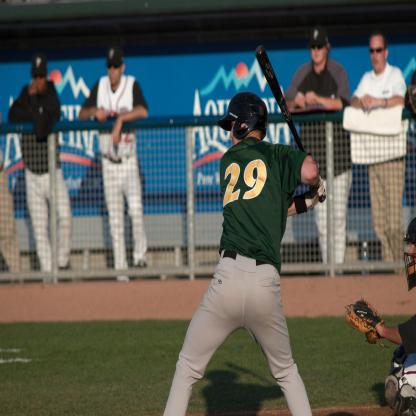Helmet: (219, 90, 268, 149)
